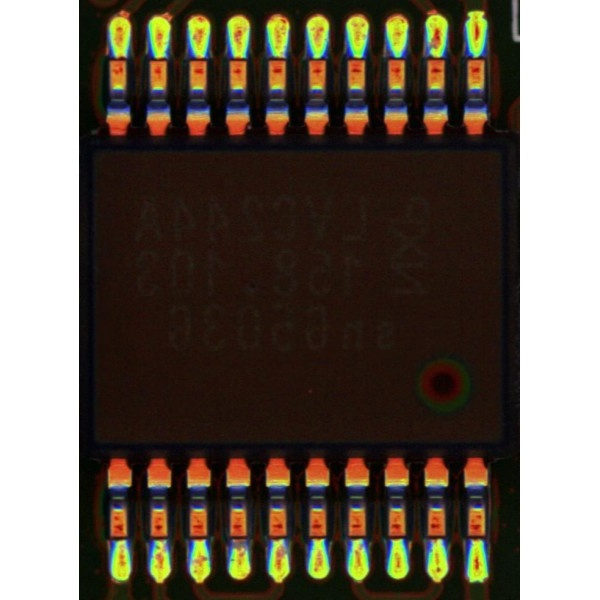Bad_podu: (232, 527, 245, 555)
